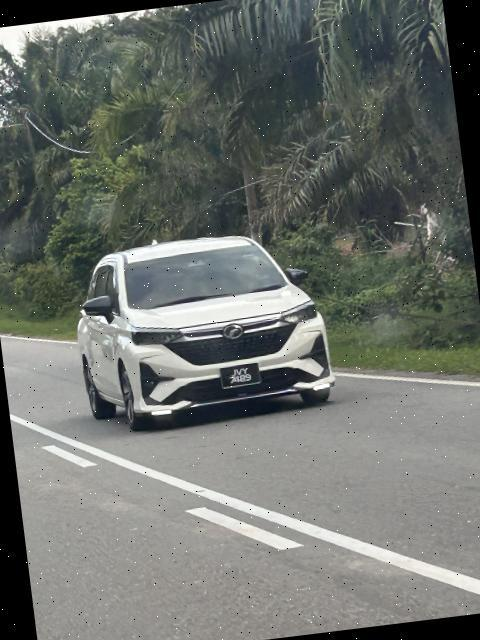JVY7489: (218, 362, 265, 392)
License_Plate: (218, 362, 265, 392)
car: (64, 220, 342, 437)
